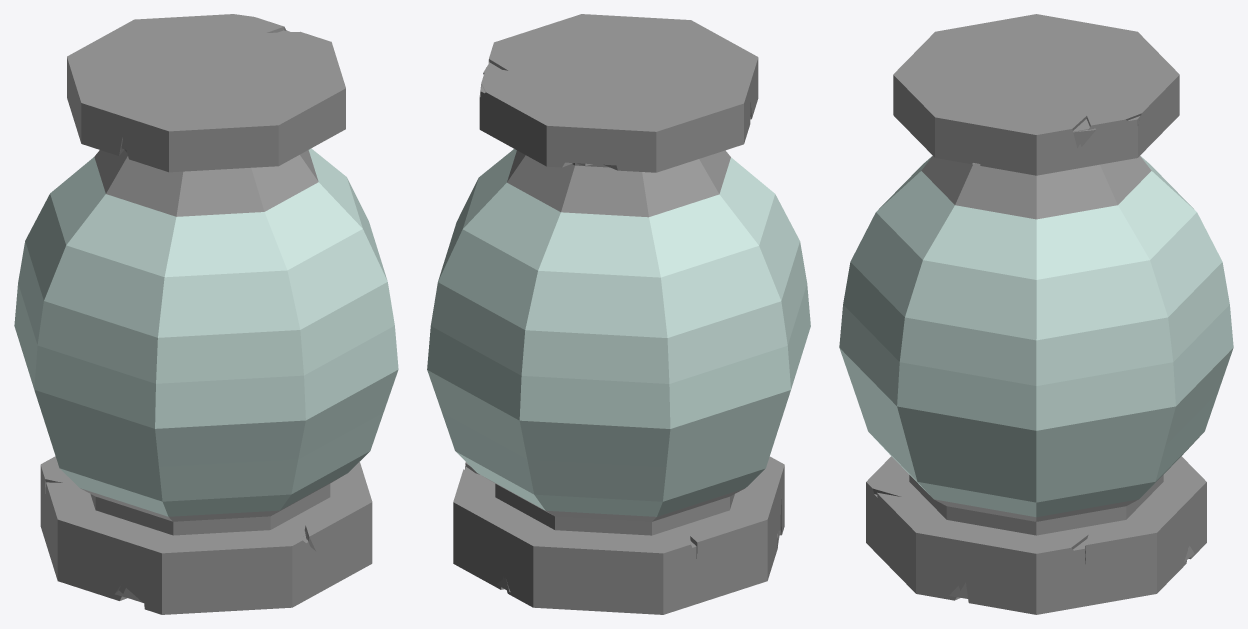
File: MagicContender.fbx
3 views of the same model, side by side, from view 1: azimuth 30°, elevation 25°; view 2: azimuth 150°, elevation 25°; view 3: azimuth 270°, elevation 25° (orthographic).
Visible parts, largest first — view 1: Cylinder; view 2: Cylinder; view 3: Cylinder.
Boxes of the visible parts, <box> form: Cylinder: <box>14,14,398,614</box>; Cylinder: <box>427,14,810,614</box>; Cylinder: <box>839,14,1233,614</box>.
Bounding box in the file's own units: 232 × 303 × 232.
